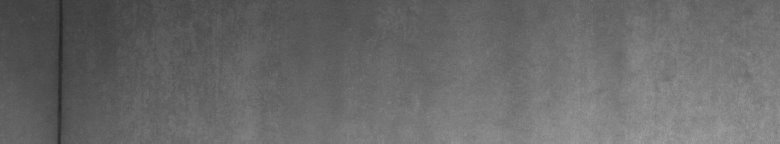hd: (52, 4, 68, 136)
